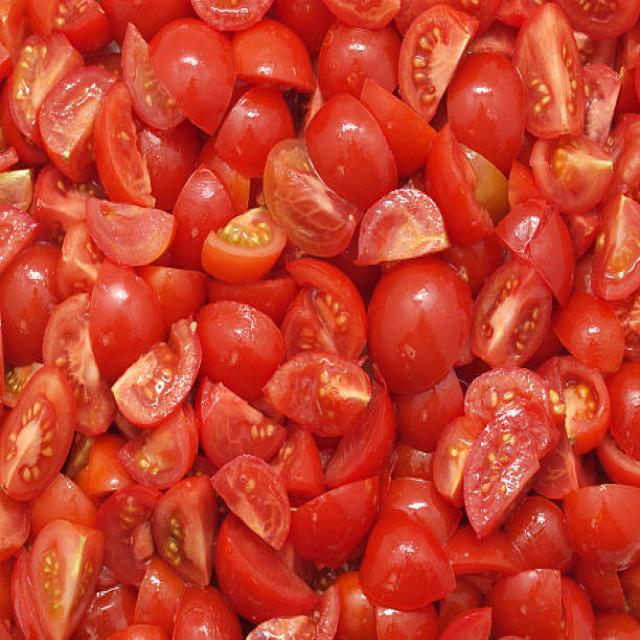Tomato: (98, 331, 218, 442), (12, 507, 106, 640), (263, 346, 384, 449), (462, 247, 554, 374), (1, 350, 76, 502), (510, 6, 584, 152), (347, 186, 466, 275), (465, 386, 545, 518), (396, 4, 472, 124), (203, 195, 302, 271)
